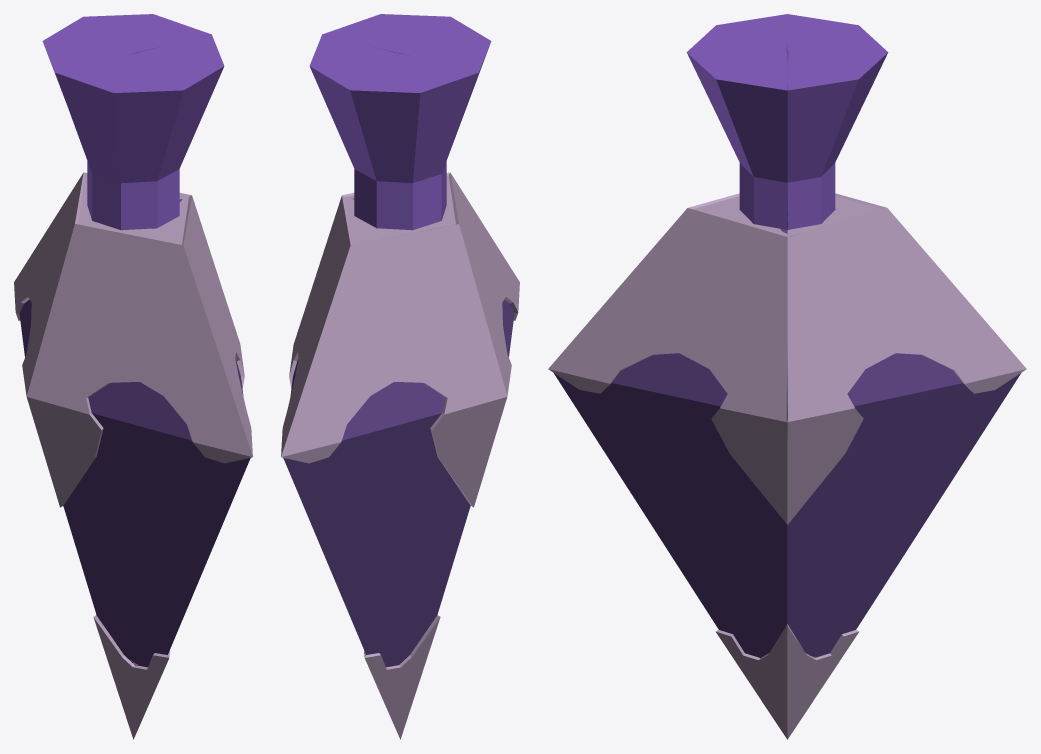
Rendered from ManaPotion 1.fbx.
3 renders of one model, left to right at view 1: azimuth 30°, elevation 25°; view 2: azimuth 150°, elevation 25°; view 3: azimuth 270°, elevation 25°, orthographic.
Visible parts, largest first — view 1: Diamond; view 2: Diamond; view 3: Diamond.
Part boxes in pixels (x1=…): Diamond: x1=14, y1=14, x2=252, y2=739; Diamond: x1=281, y1=14, x2=519, y2=739; Diamond: x1=548, y1=14, x2=1026, y2=739.
Size of the model in its own units: 10.26 by 31.46 by 19.85.
